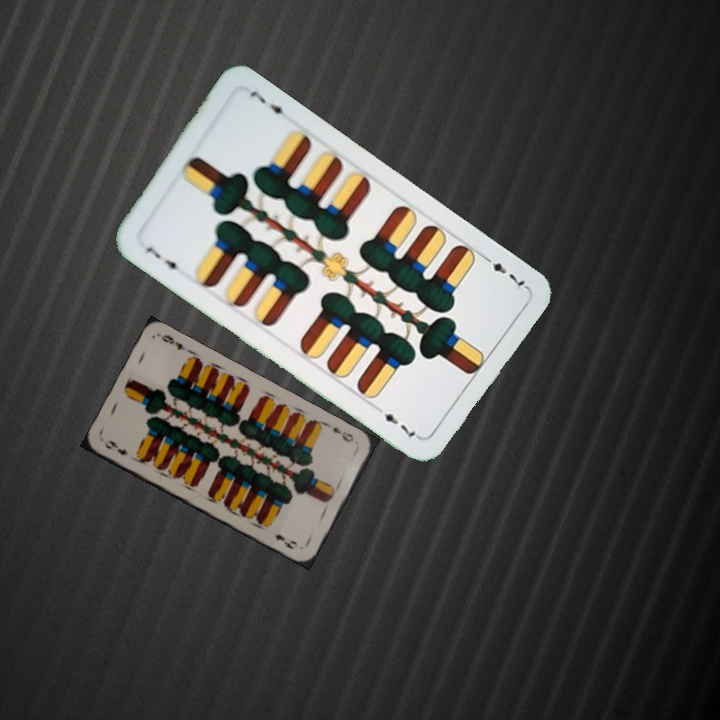E7: (478, 250, 529, 291), (142, 242, 183, 277)
E9: (323, 420, 356, 445), (100, 436, 130, 458)
